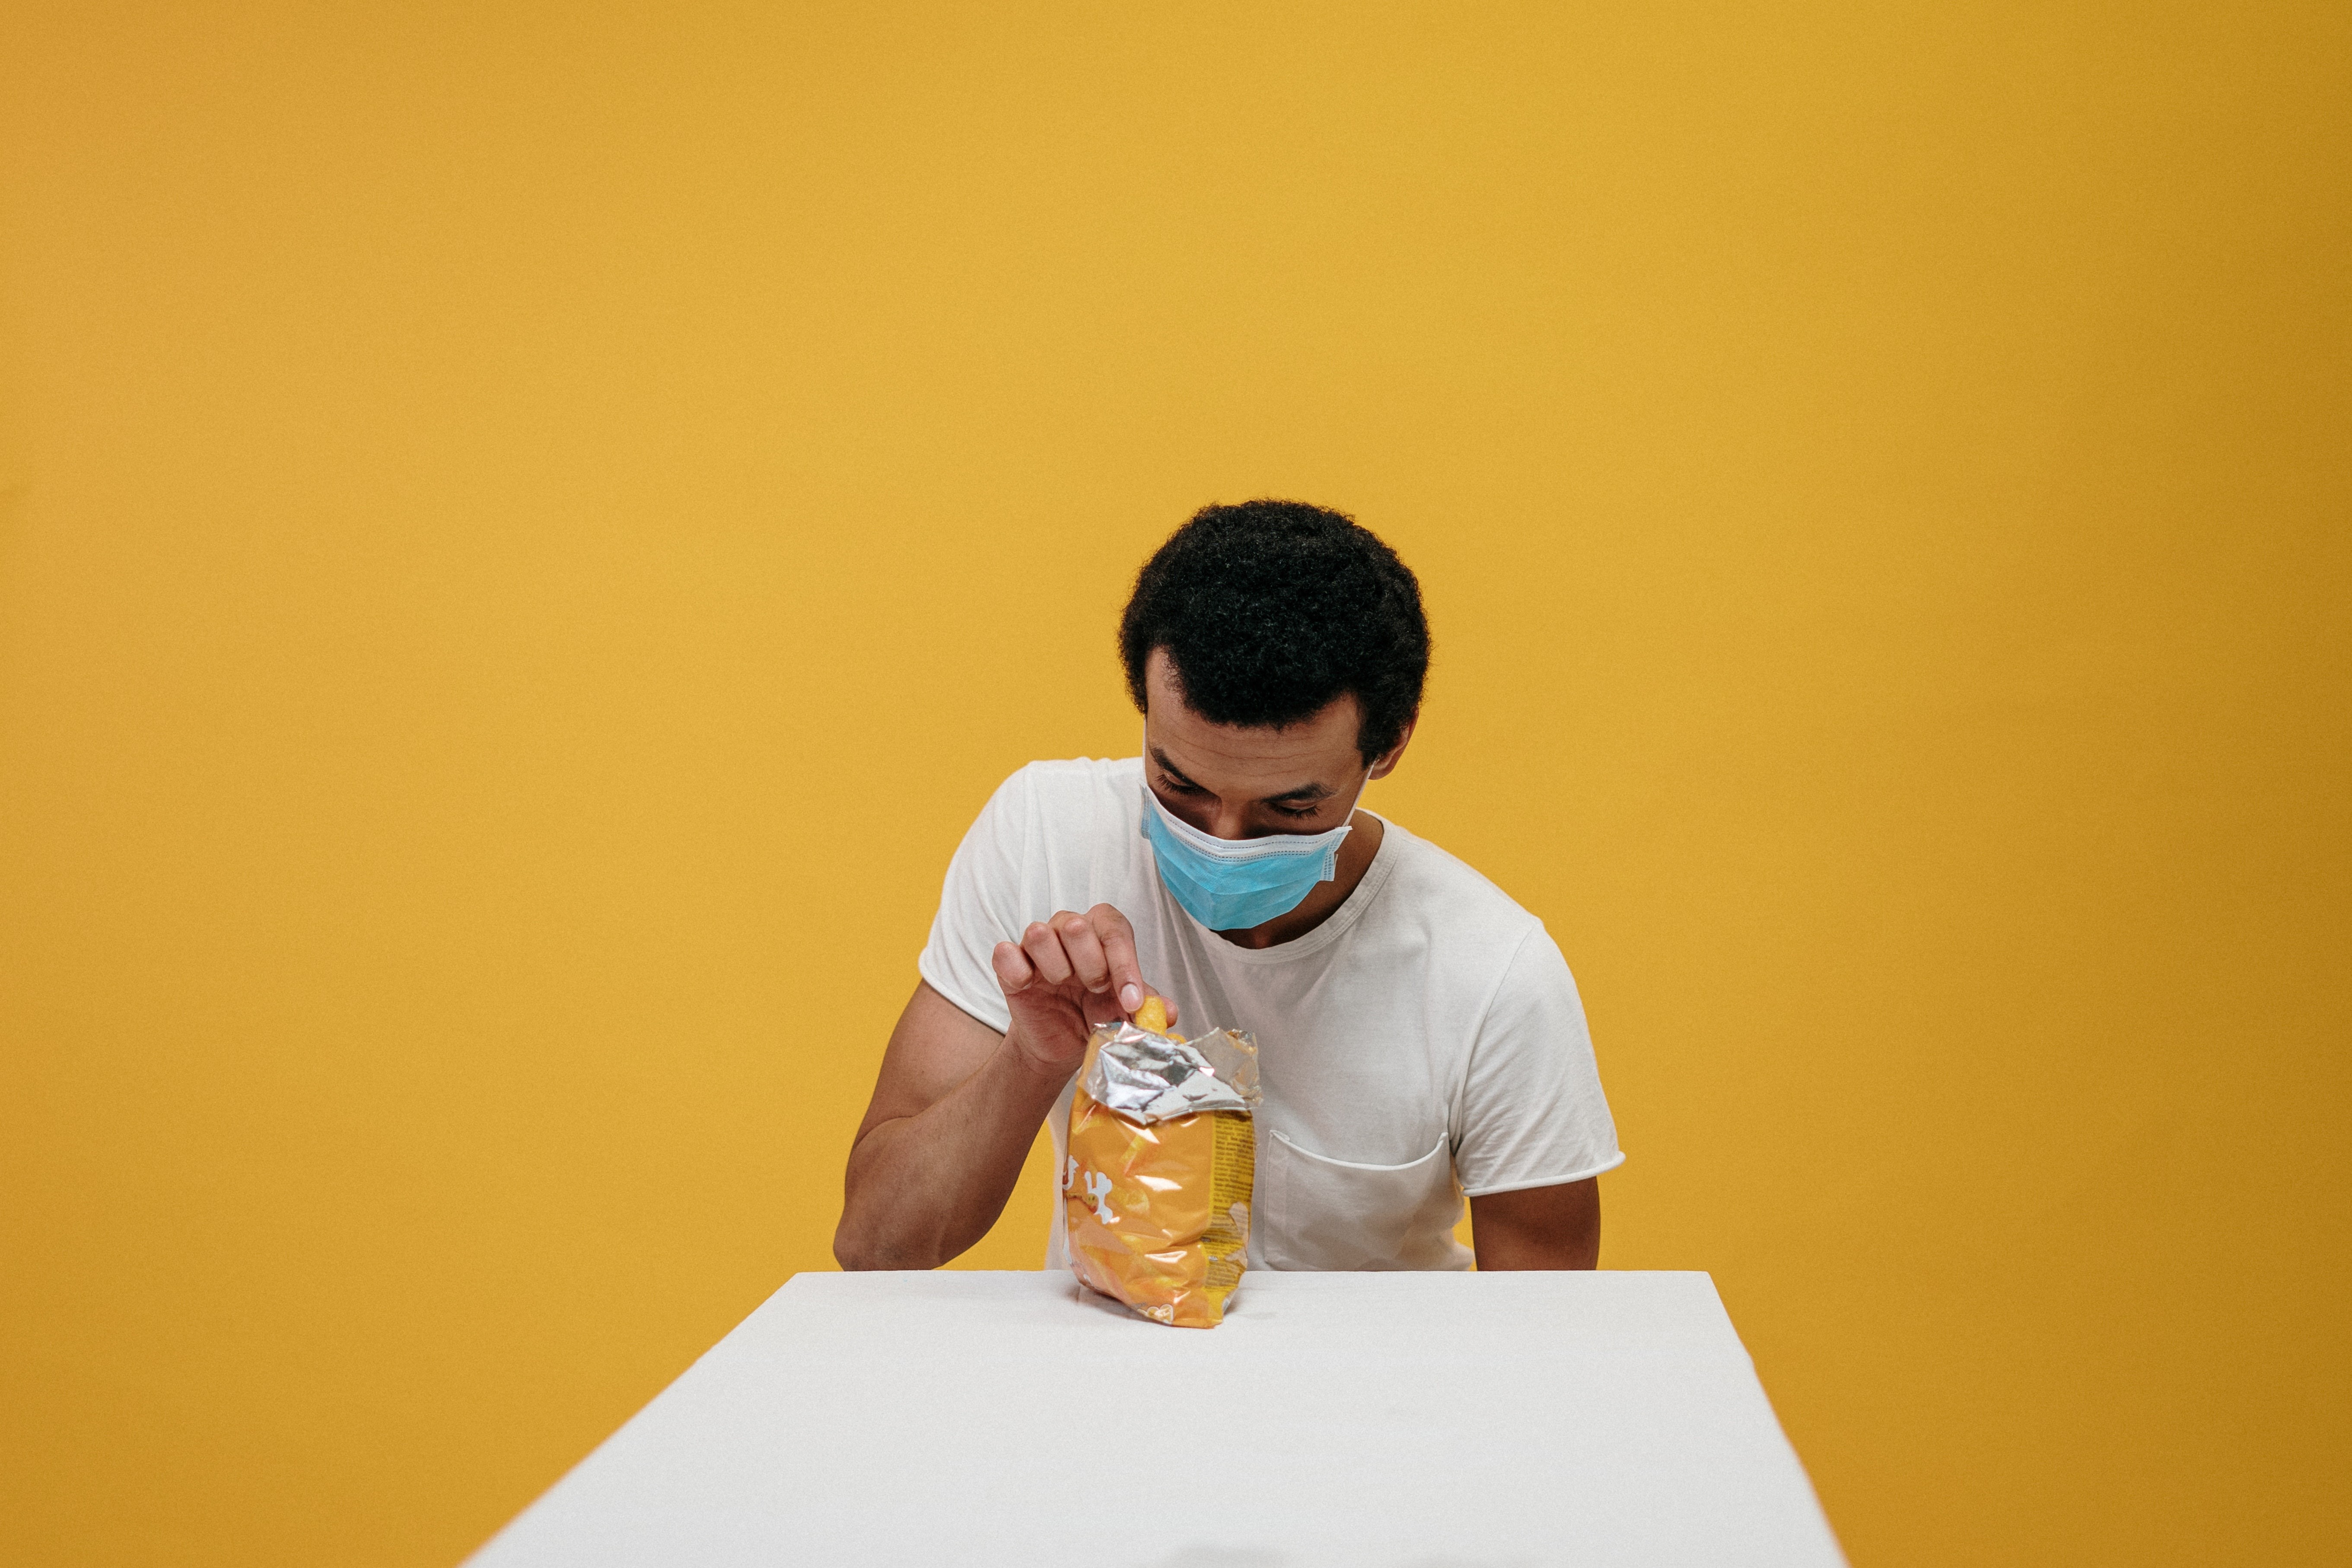face_with_mask: (1101, 532, 1424, 977)
